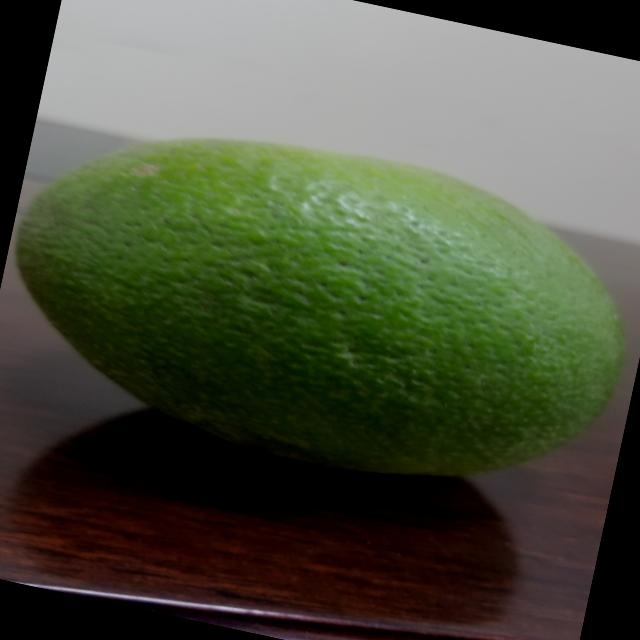agrume: (0, 86, 640, 521)
